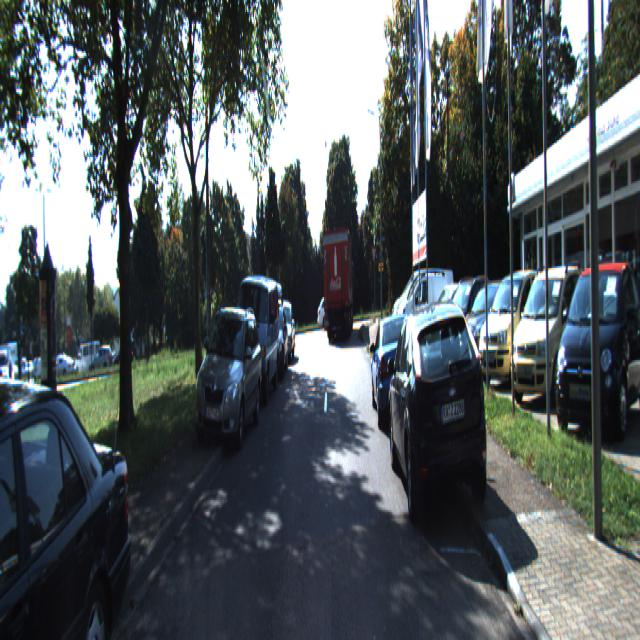Car: (0, 350, 134, 638), (388, 294, 493, 538), (554, 249, 639, 442), (508, 269, 594, 414), (190, 304, 263, 457), (476, 265, 556, 392), (452, 281, 528, 379), (230, 271, 282, 408), (371, 308, 423, 429), (438, 273, 497, 357), (395, 270, 449, 348), (321, 226, 355, 342), (258, 306, 290, 392), (269, 300, 296, 369), (317, 294, 351, 336)
